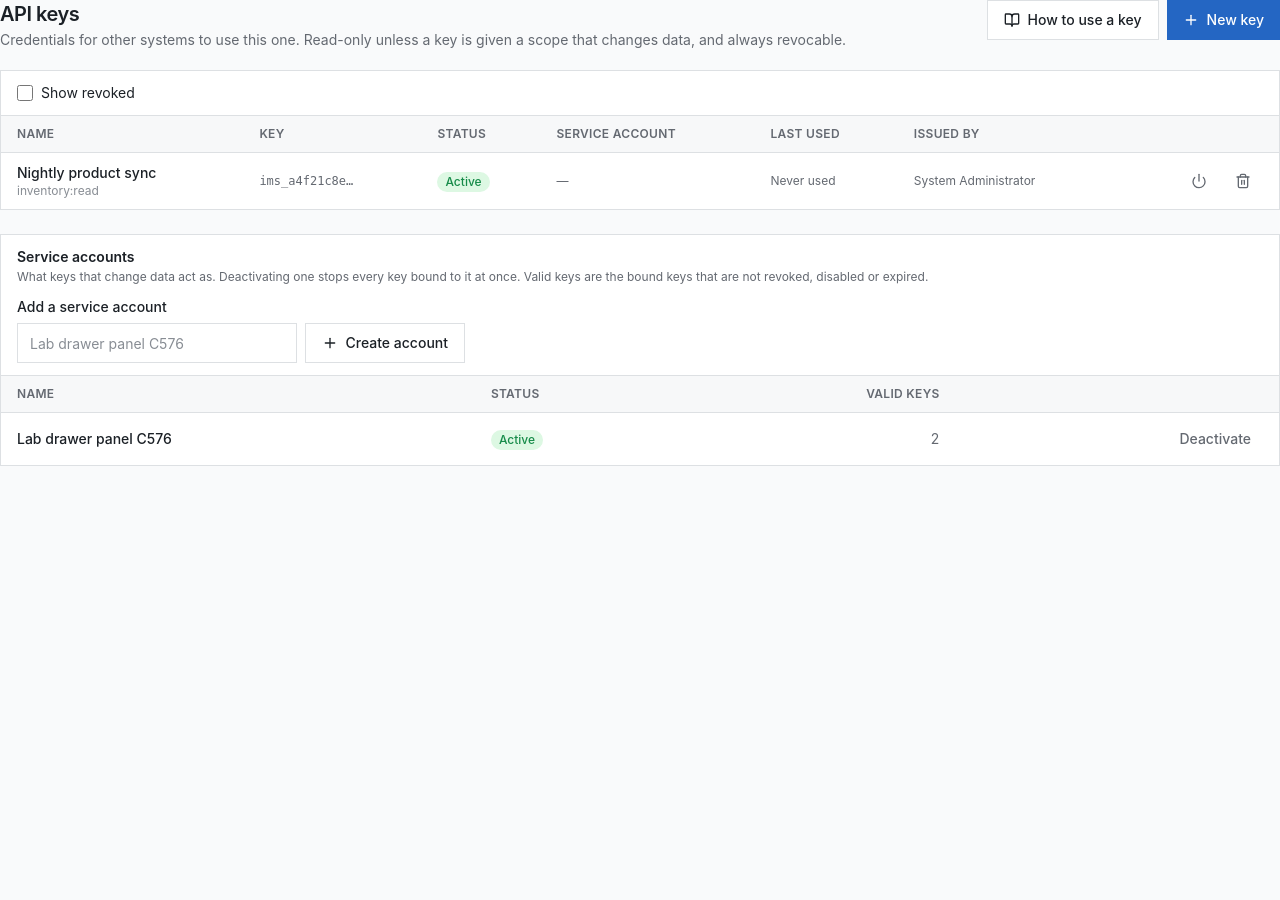
Test: ApiKeysPage › scopes that change data › creates a service account inline and selects it, without issuing the key
Click the button "New key". click: (1223, 20)
box: [1166,0,1279,40]
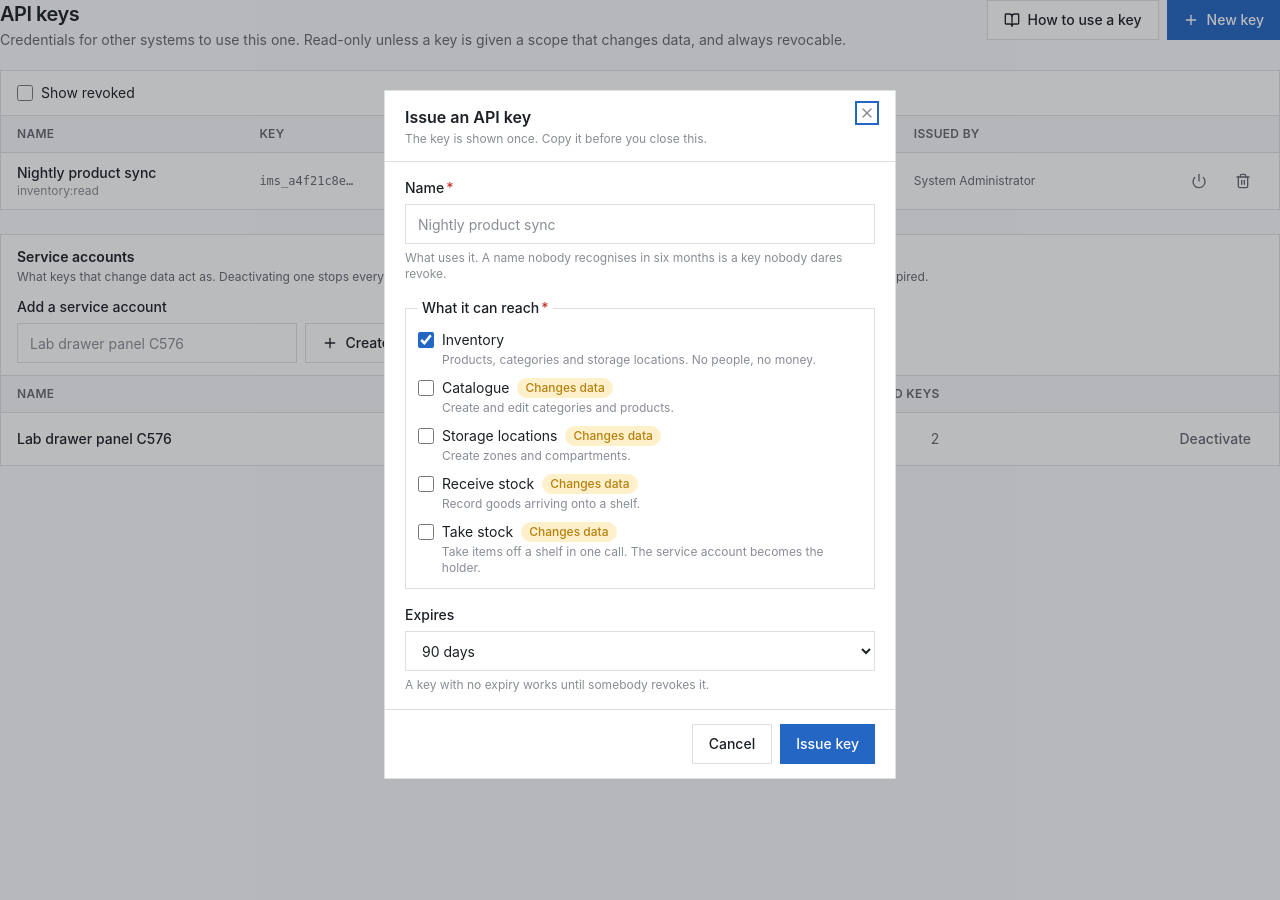
Click the checkbox labelled "Take stock Changes data". click: (426, 532)
box: [418,524,434,540]
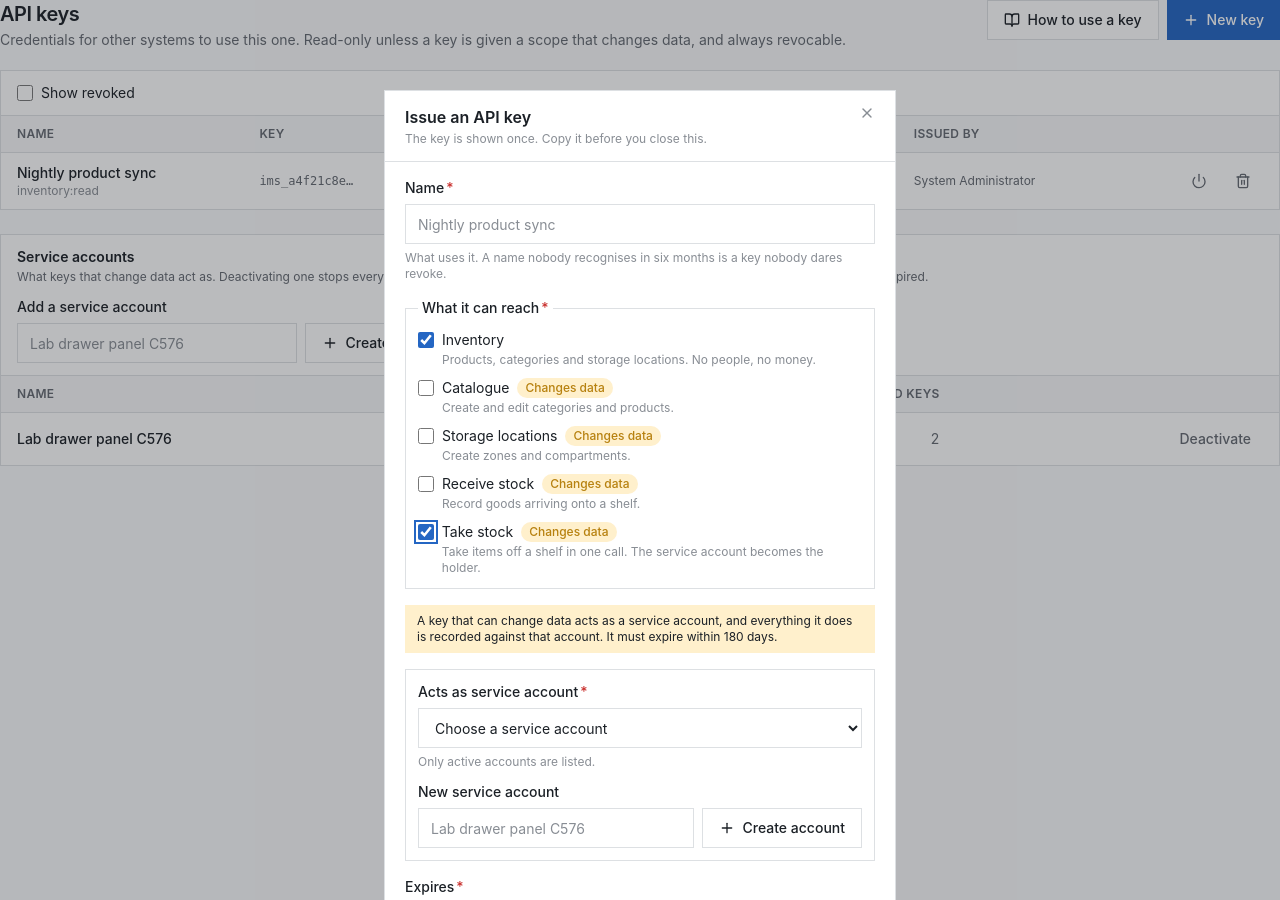
Type "Bench scanner" into the field labelled "New service account". click: (556, 828)
box: [418,808,694,848]
Then press Enter
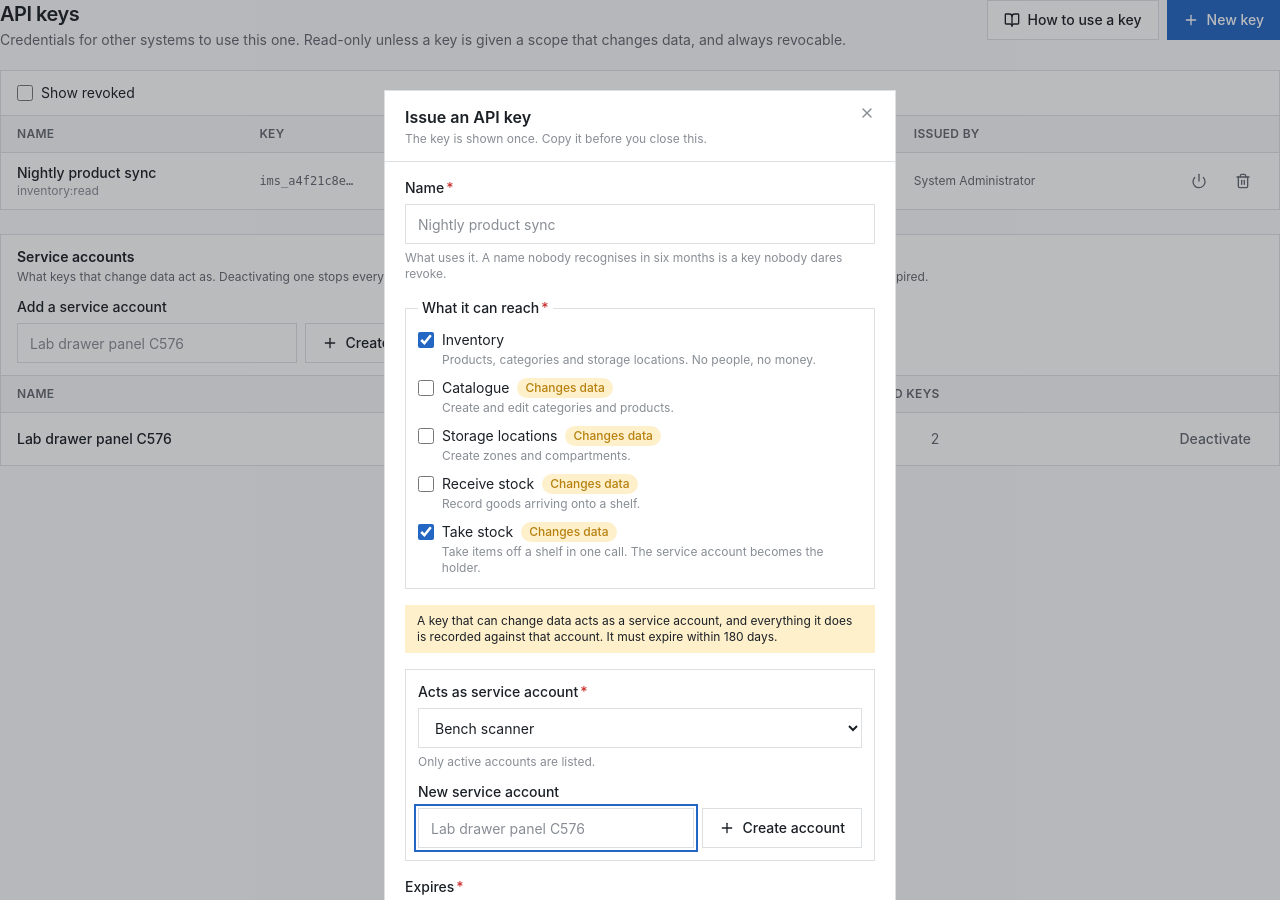
expect the dropdown labelled "Acts as service account*" shows "Bench scanner": met, box [418,708,862,748]
